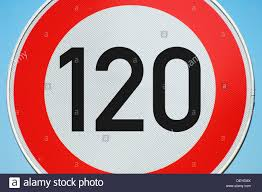Speed_limit_120km: (7, 1, 256, 173)
